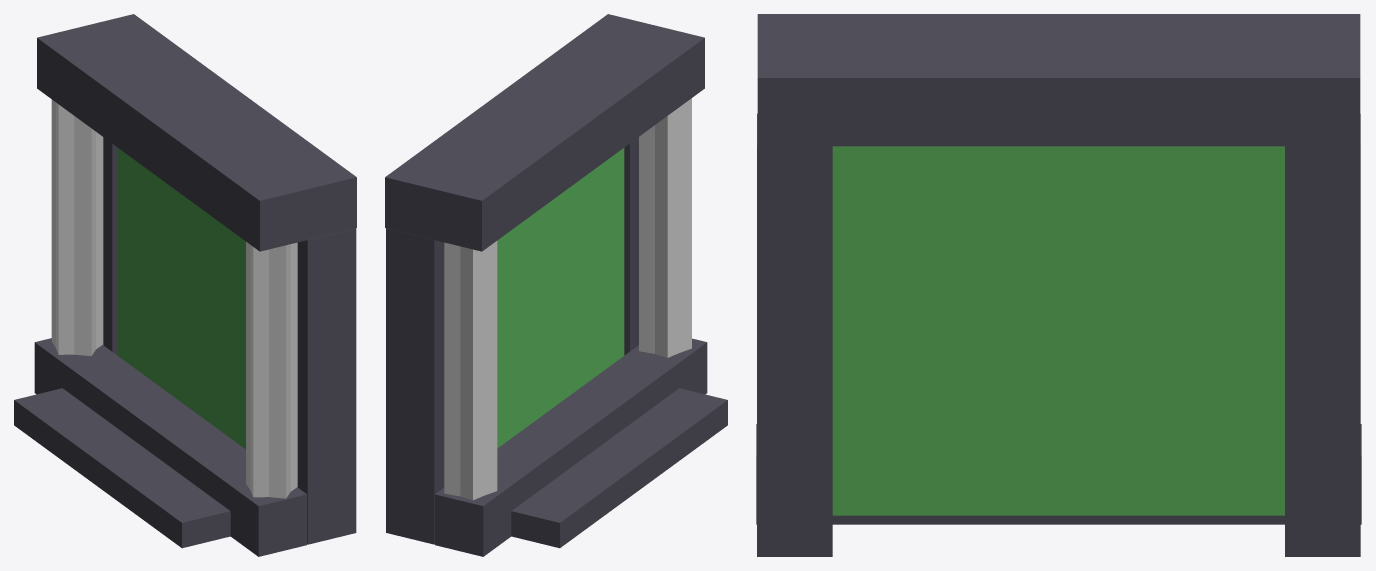
Rendered from gBPortal_01.fbx.
3 views of the same model, side by side, from view 1: azimuth 30°, elevation 25°; view 2: azimuth 150°, elevation 25°; view 3: azimuth 270°, elevation 25° (orthographic). The views are drawn at different scales.
Parts seen in each view (by area): view 1: columTop_01, Portal_01, Step_02, supportColum_02, Step_01, Pillar_02, Pillar_01, supportColum_01; view 2: columTop_01, Portal_01, Step_02, supportColum_01, Step_01, Pillar_01, Pillar_02, supportColum_02; view 3: Portal_01, columTop_01, supportColum_02, supportColum_01, Step_02.
Part boxes in pixels (left/top/right/bottom): columTop_01: left=37, top=14, right=356, bottom=251; Portal_01: left=117, top=148, right=245, bottom=449; Step_02: left=34, top=338, right=306, bottom=556; supportColum_02: left=297, top=228, right=356, bottom=544; Step_01: left=14, top=388, right=230, bottom=548; Pillar_02: left=246, top=242, right=297, bottom=498; Pillar_01: left=51, top=99, right=103, bottom=356; supportColum_01: left=103, top=137, right=117, bottom=355; columTop_01: left=385, top=14, right=704, bottom=251; Portal_01: left=497, top=148, right=624, bottom=448; Step_02: left=435, top=338, right=707, bottom=556; supportColum_01: left=386, top=228, right=444, bottom=544; Step_01: left=511, top=388, right=727, bottom=548; Pillar_01: left=444, top=241, right=497, bottom=500; Pillar_02: left=639, top=98, right=691, bottom=357; supportColum_02: left=624, top=137, right=638, bottom=355; Portal_01: left=832, top=146, right=1284, bottom=515; columTop_01: left=757, top=14, right=1360, bottom=146; supportColum_02: left=757, top=113, right=832, bottom=556; supportColum_01: left=1285, top=114, right=1360, bottom=556; Step_02: left=756, top=424, right=1361, bottom=524.
Bounding box in the file's own units: 152 × 350 × 400.
